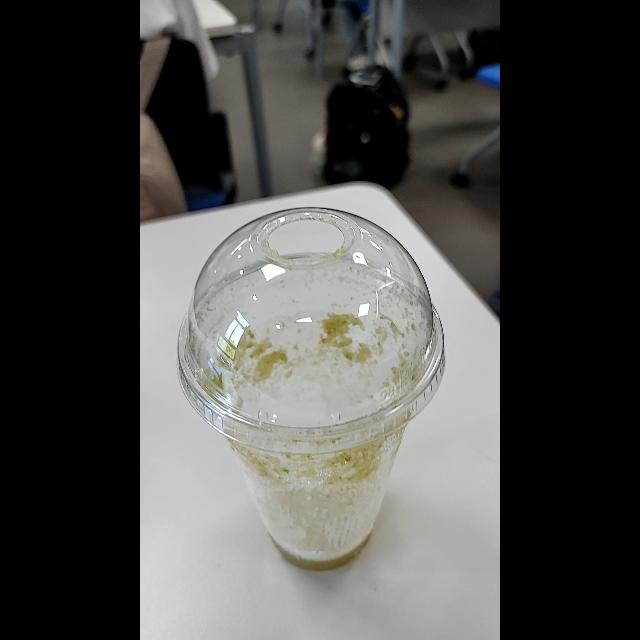plastic_cup: (175, 207, 448, 576)
plastic_cup_lid: (175, 203, 449, 454)
